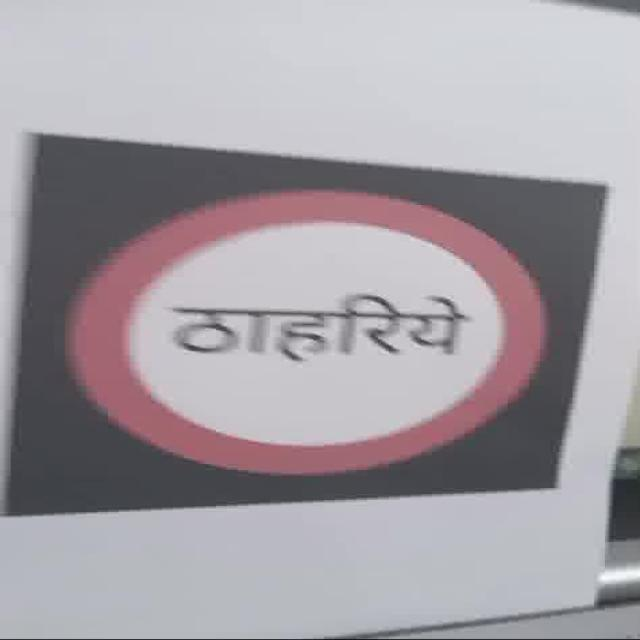hindistop: (162, 283, 470, 369)
